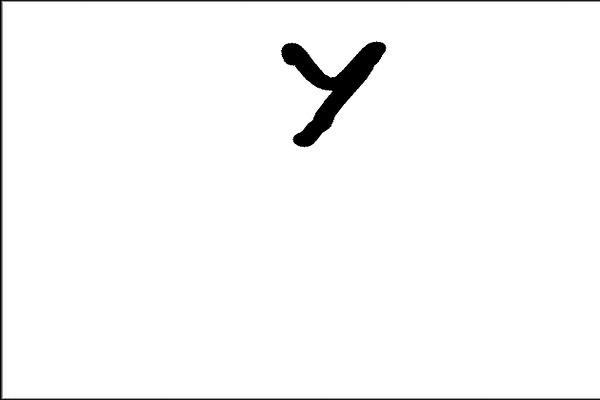Y: (268, 32, 428, 157)
